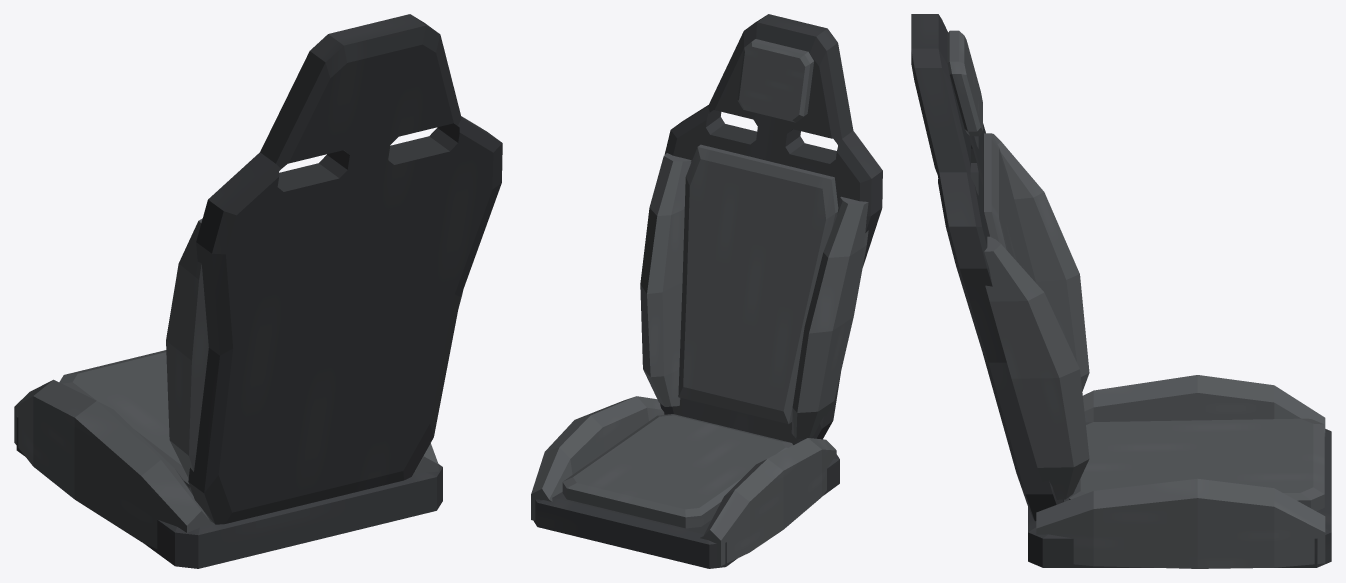
Rendered from amateur_bucket.fbx.
3 renders of one model, left to right at view 1: azimuth 30°, elevation 25°; view 2: azimuth 150°, elevation 25°; view 3: azimuth 270°, elevation 25°, orthographic. The views are drawn at different scales.
Visible parts, largest first — view 1: Back_Shell, Thigh_Bolster_L, Seat_Base, Torso_Bolster_L, Seat_Cushion; view 2: Back_Cushion, Back_Shell, Seat_Cushion, Torso_Bolster_L, Torso_Bolster_R, Thigh_Bolster_L, Seat_Base, Thigh_Bolster_R, Head_Pad; view 3: Thigh_Bolster_R, Seat_Cushion, Back_Shell, Torso_Bolster_R, Thigh_Bolster_L, Torso_Bolster_L, Back_Cushion, Seat_Base, Head_Pad.
Part boxes in pixels (x1,y1,x2,y2): Back_Shell: (188, 14, 502, 524); Thigh_Bolster_L: (14, 379, 214, 548); Seat_Base: (16, 416, 442, 568); Torso_Bolster_L: (166, 218, 208, 477); Seat_Cushion: (59, 350, 191, 490); Back_Cushion: (678, 144, 838, 424); Back_Shell: (660, 14, 882, 444); Seat_Cushion: (562, 414, 792, 528); Torso_Bolster_L: (791, 196, 868, 438); Torso_Bolster_R: (640, 153, 691, 406); Thigh_Bolster_L: (700, 438, 836, 566); Seat_Base: (533, 454, 839, 568); Thigh_Bolster_R: (531, 396, 664, 520); Head_Pad: (737, 39, 813, 122); Thigh_Bolster_R: (1036, 478, 1325, 568); Seat_Cushion: (1069, 418, 1324, 511); Back_Shell: (911, 14, 1063, 521); Torso_Bolster_R: (984, 236, 1089, 499); Thigh_Bolster_L: (1083, 375, 1325, 436); Torso_Bolster_L: (992, 133, 1089, 391); Back_Cushion: (983, 133, 1035, 282); Seat_Base: (1028, 429, 1331, 567); Head_Pad: (947, 30, 982, 136).
Size of the model in its own units: 53 by 97.5 by 76.83.
Materials: 1 (1 with a texture image).
